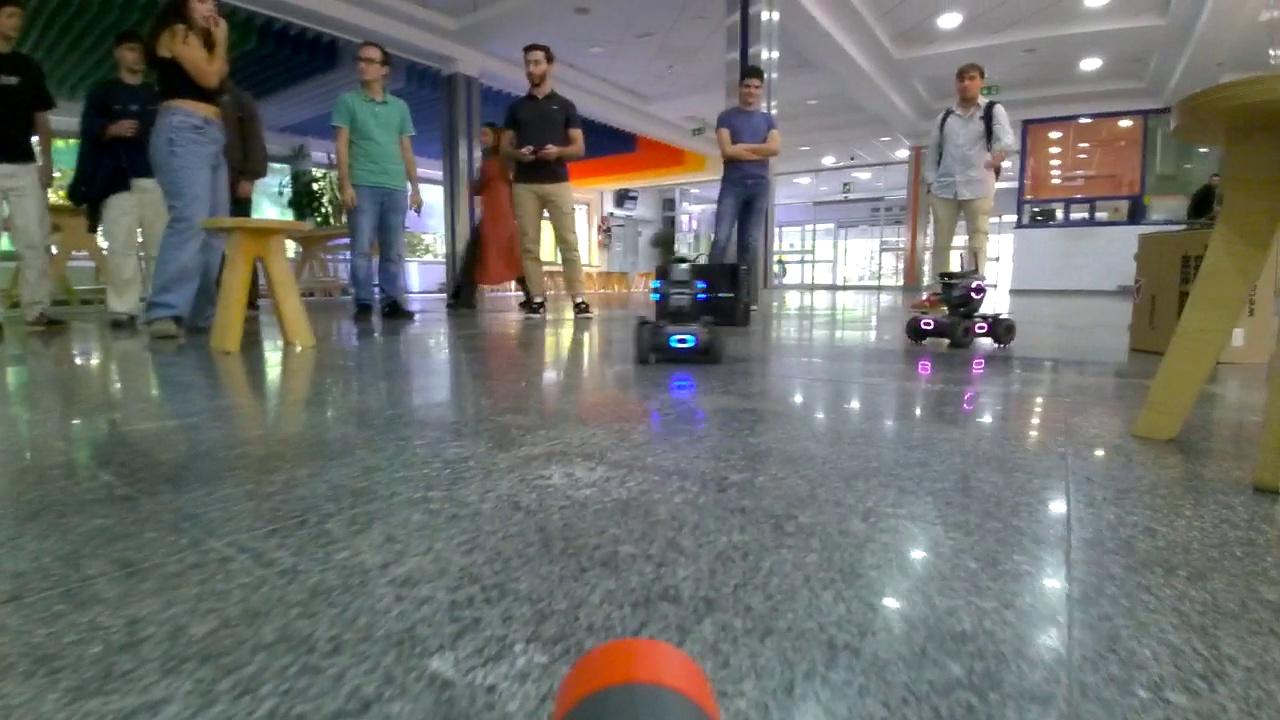robot: (638, 274, 725, 366), (906, 274, 1018, 337)
